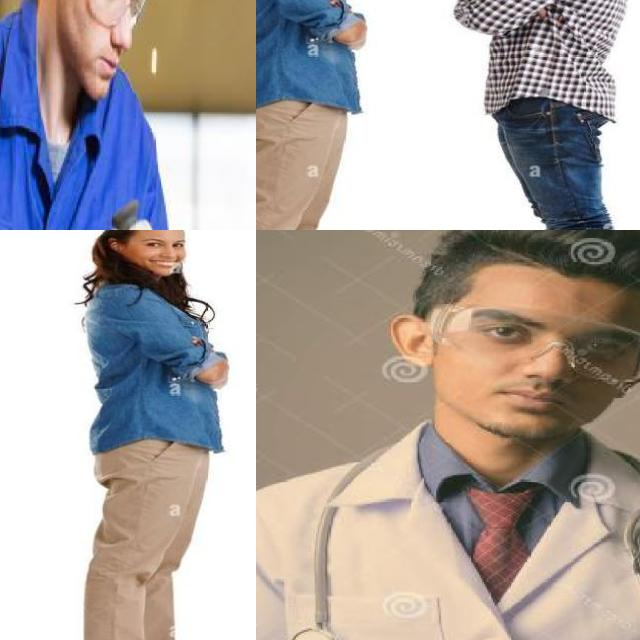No_Ear-Protection: (390, 311, 438, 376), (105, 230, 132, 257)
No_Glasses: (137, 233, 191, 252)
face_nomask: (461, 300, 633, 428), (78, 0, 146, 78), (139, 248, 185, 276)
glasses: (423, 302, 640, 385), (58, 0, 152, 36)
head_nohelmet: (452, 230, 640, 305)
person: (256, 230, 640, 640), (75, 230, 235, 640), (0, 0, 190, 230), (451, 0, 628, 230), (256, 0, 373, 230)
